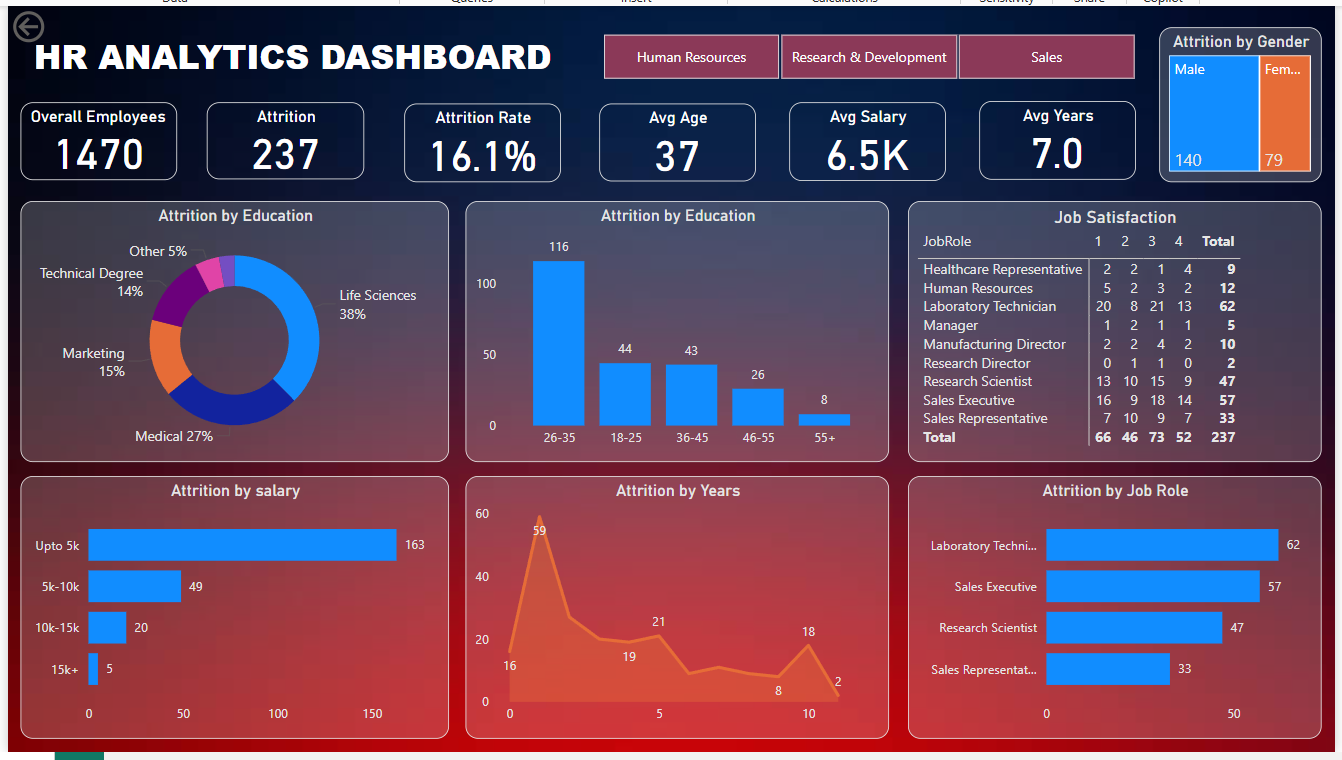

The page's visual inventory and layout, read from the dashboard file:
{"tool":"powerbi","page":{"name":"Page 1","canvas":[1280,720],"ordinal":0},"visuals":[{"type":"card","title":"Overall Employees","fields":{"Values":["CountNonNull(HR_Analytics.EmpID)"]},"box":[12.1,92.9,150.8,75],"z":0},{"type":"card","title":"Attrition","fields":{"Values":["Sum(HR_Analytics.Attritioncount)"]},"box":[191.8,92.9,152,74.8],"z":1000},{"type":"card","title":"Avg Age","fields":{"Values":["Avg(HR_Analytics.Age)"]},"box":[570.8,94.7,150.9,75.5],"z":2000},{"type":"card","title":"Avg Years","fields":{"Values":["Avg(HR_Analytics.YearsAtCompany)"]},"box":[937.4,91.7,150.8,76],"z":3000},{"type":"card","title":"Attrition Rate","fields":{"Values":["HR_Analytics.AttritionRate"]},"box":[382.4,94.1,150.8,76],"z":4000},{"type":"card","title":"Avg Salary","fields":{"Values":["Avg(HR_Analytics.MonthlyIncome)"]},"box":[754,92.9,150.8,76],"z":5000},{"type":"actionButton","box":[0,0,100,40],"z":6000},{"type":"donutChart","title":"Attrition by Education","fields":{"Category":["HR_Analytics.EducationField"],"Y":["Sum(HR_Analytics.Attritioncount)"]},"box":[12.1,188.2,413.8,252.1],"z":7000},{"type":"columnChart","title":"Attrition by Education","fields":{"Category":["HR_Analytics.AgeGroup"],"Y":["Sum(HR_Analytics.Attritioncount)"]},"box":[441.6,188.2,409,252.1],"z":8000},{"type":"pivotTable","title":"Job Satisfaction","fields":{"Rows":["HR_Analytics.JobRole"],"Values":["Sum(HR_Analytics.Attritioncount)"],"Columns":["HR_Analytics.JobSatisfaction"]},"box":[868.6,188.2,399.3,252.1],"z":9000},{"type":"barChart","title":"Attrition by salary","fields":{"Category":["HR_Analytics.SalarySlab"],"Y":["Sum(HR_Analytics.Attritioncount)"]},"box":[12.1,453.6,413.8,253.4],"z":10000},{"type":"barChart","title":"Attrition by Job Role","fields":{"Category":["HR_Analytics.JobRole"],"Y":["Sum(HR_Analytics.Attritioncount)"]},"box":[868.6,453.6,399.3,253.4],"z":11000},{"type":"areaChart","title":"Attrition by Years","fields":{"Category":["HR_Analytics.YearsAtCompany"],"Y":["Sum(HR_Analytics.Attritioncount)"]},"box":[441.6,453.6,409,253.4],"z":12000},{"type":"treemap","title":"Attrition by Gender","fields":{"Group":["HR_Analytics.Gender"],"Values":["Sum(HR_Analytics.Attritioncount)"]},"box":[1111.5,20.6,156.4,149.6],"z":13000},{"type":"slicer","fields":{"Values":["HR_Analytics.Department"]},"box":[548.9,20.5,562.2,56.7],"z":14000},{"type":"textbox","box":[12.1,20.5,536.9,56.7],"z":15000}]}

Visuals, with their boxes in screenshot pixels (x1, y1, x2, y2):
"Overall Employees" card: [left=2, top=82, right=164, bottom=163]
"Attrition" card: [left=195, top=82, right=358, bottom=162]
"Avg Age" card: [left=601, top=84, right=763, bottom=165]
"Avg Years" card: [left=994, top=81, right=1156, bottom=162]
"Attrition Rate" card: [left=399, top=83, right=561, bottom=165]
"Avg Salary" card: [left=798, top=82, right=959, bottom=164]
actionButton: [left=0, top=0, right=97, bottom=25]
"Attrition by Education" donutChart: [left=2, top=184, right=446, bottom=455]
"Attrition by Education" columnChart: [left=463, top=184, right=901, bottom=455]
"Job Satisfaction" pivotTable: [left=921, top=184, right=1341, bottom=455]
"Attrition by salary" barChart: [left=2, top=469, right=446, bottom=740]
"Attrition by Job Role" barChart: [left=921, top=469, right=1341, bottom=740]
"Attrition by Years" areaChart: [left=463, top=469, right=901, bottom=740]
"Attrition by Gender" treemap: [left=1181, top=5, right=1341, bottom=165]
slicer - HR_Analytics.Department: [left=578, top=5, right=1181, bottom=65]
textbox: [left=2, top=5, right=578, bottom=65]
